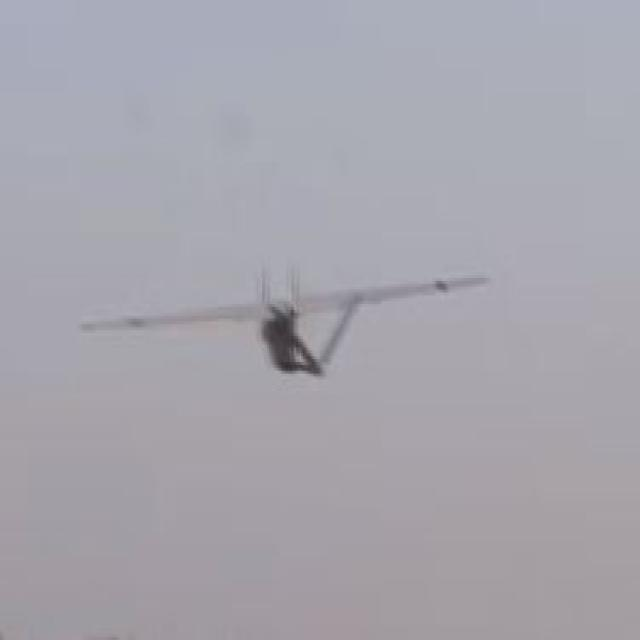iha: (78, 290, 492, 353)
